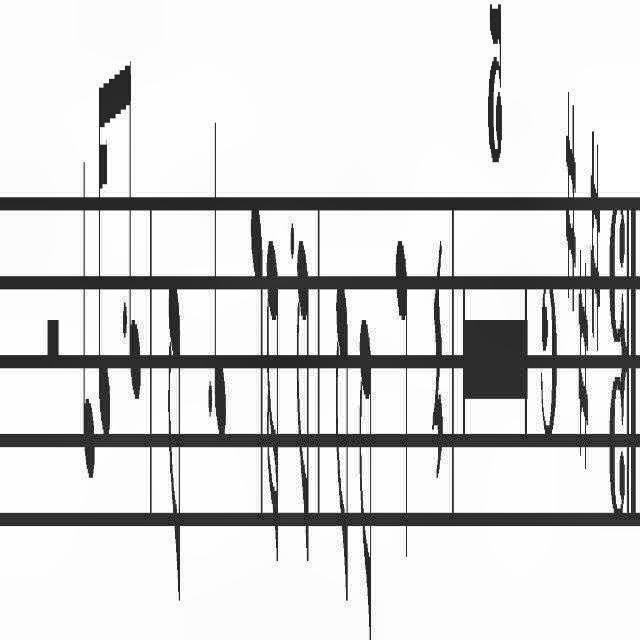Diez: (588, 102, 608, 384), (562, 82, 578, 304), (577, 241, 591, 483)
Eighth-note: (162, 197, 186, 637), (126, 4, 146, 466), (334, 260, 351, 622), (357, 308, 375, 636), (296, 230, 310, 582)
Quarter-note: (212, 119, 232, 513), (392, 217, 412, 595), (250, 184, 264, 556), (81, 164, 95, 488)
Quarter-rest: (429, 197, 445, 549)
Sixteenth-note: (96, 62, 112, 452), (266, 210, 280, 604)
